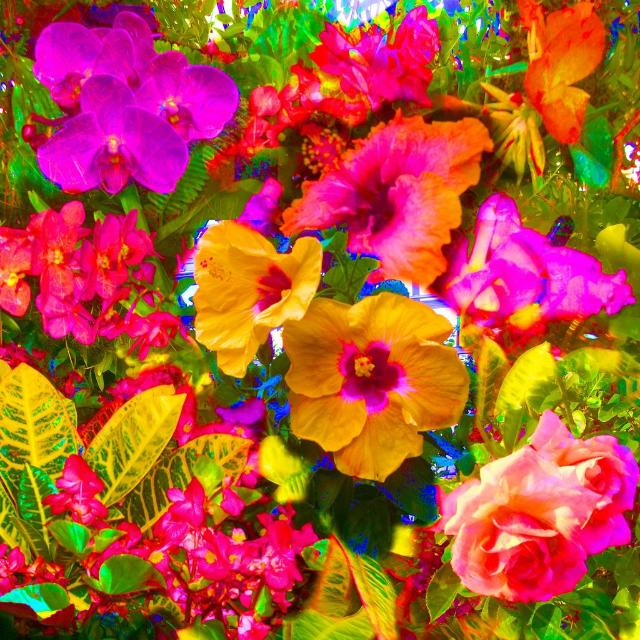Flower: (1, 1, 640, 640), (276, 290, 477, 480)
